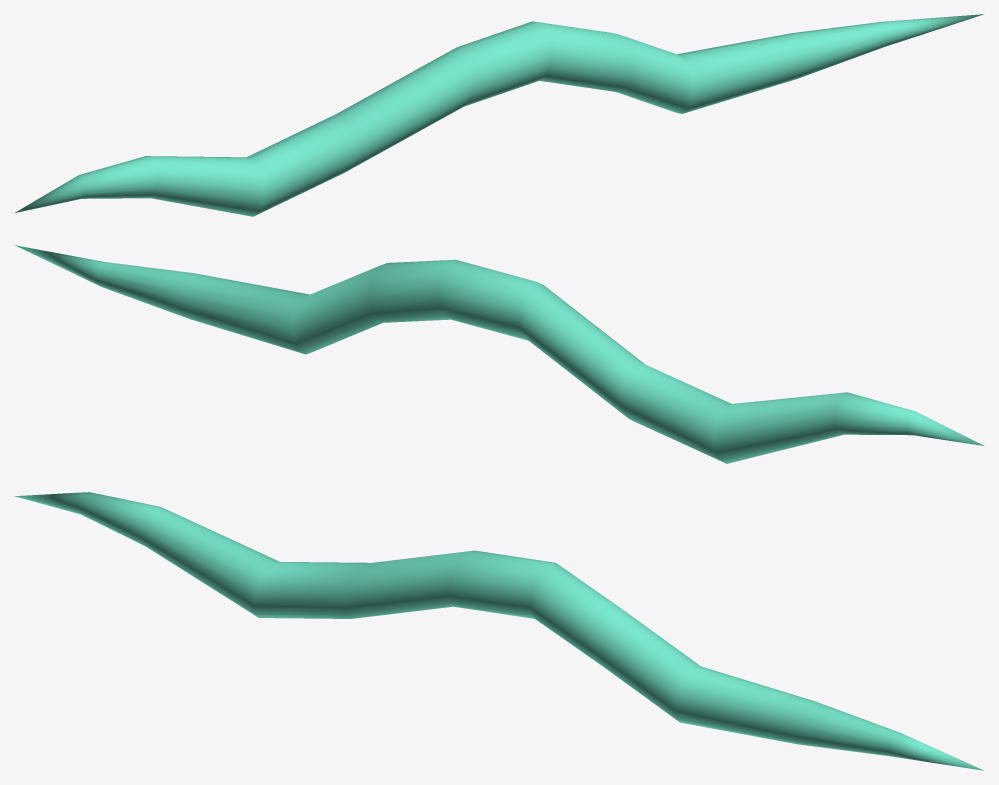
File: Galho 2.fbx
The picture shows the model from 3 angles, top to bottom: view 1: azimuth 30°, elevation 25°; view 2: azimuth 150°, elevation 25°; view 3: azimuth 330°, elevation 25°; orthographic projection.
Visible parts, largest first — view 1: Galho; view 2: Galho; view 3: Galho.
Part boxes in pixels (box(x1,y1,x2,y2)): Galho: box(15, 14, 983, 216); Galho: box(15, 245, 983, 463); Galho: box(14, 492, 983, 770).
Bounding box in the file's own units: 307 × 37.9 × 22.86.
